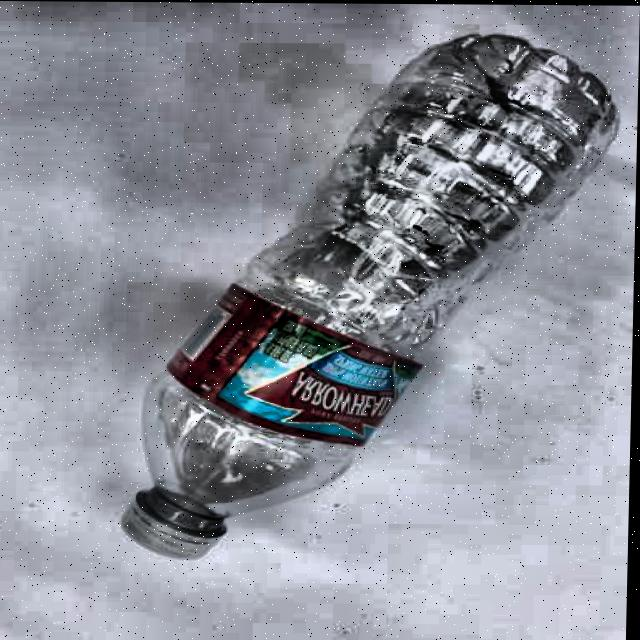plastic: (116, 28, 624, 566)
